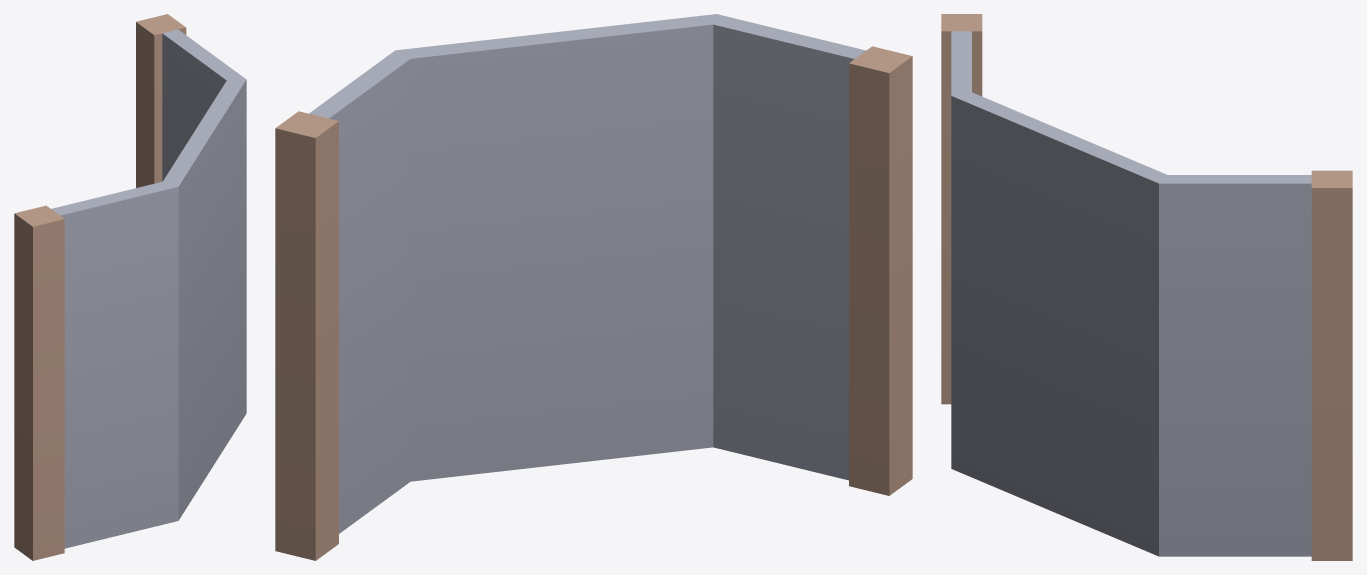
File: wall-corner-diagonal.glb
3 renders of one model, left to right at view 1: azimuth 30°, elevation 25°; view 2: azimuth 150°, elevation 25°; view 3: azimuth 270°, elevation 25°, orthographic. The views are drawn at different scales.
Parts seen in each view (by area): view 1: wall-corner-diagonal; view 2: wall-corner-diagonal; view 3: wall-corner-diagonal.
Boxes of the visible parts, x1,y1,x2,y2 form: wall-corner-diagonal: (14, 14, 246, 560); wall-corner-diagonal: (275, 14, 912, 560); wall-corner-diagonal: (941, 14, 1352, 560).
Bounding box in the file's own units: 1 × 1 × 1.
